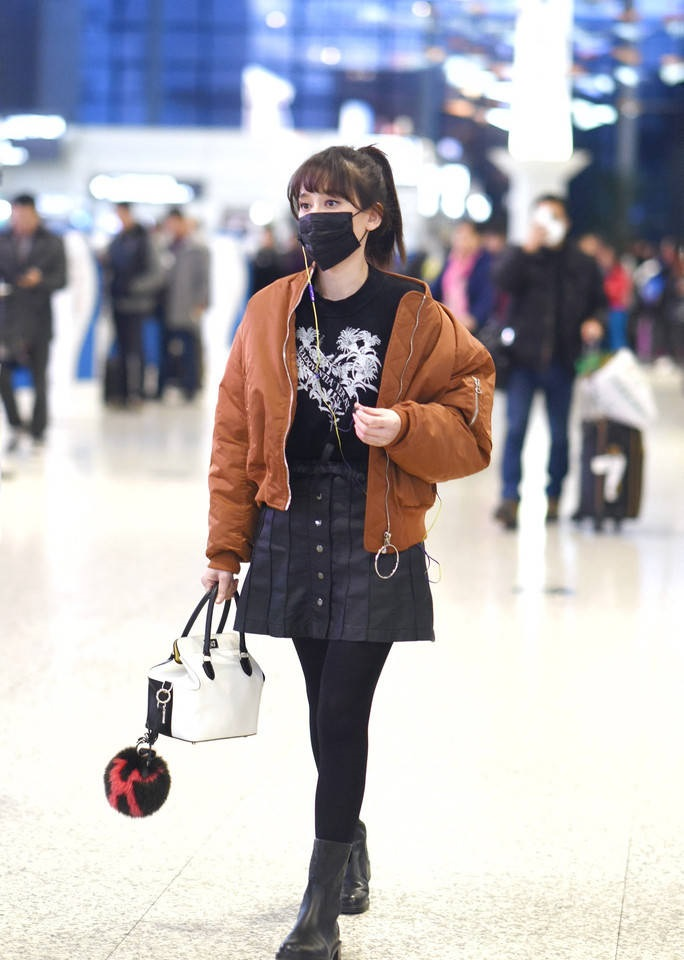face_mask: (298, 174, 355, 268), (12, 202, 30, 232)
